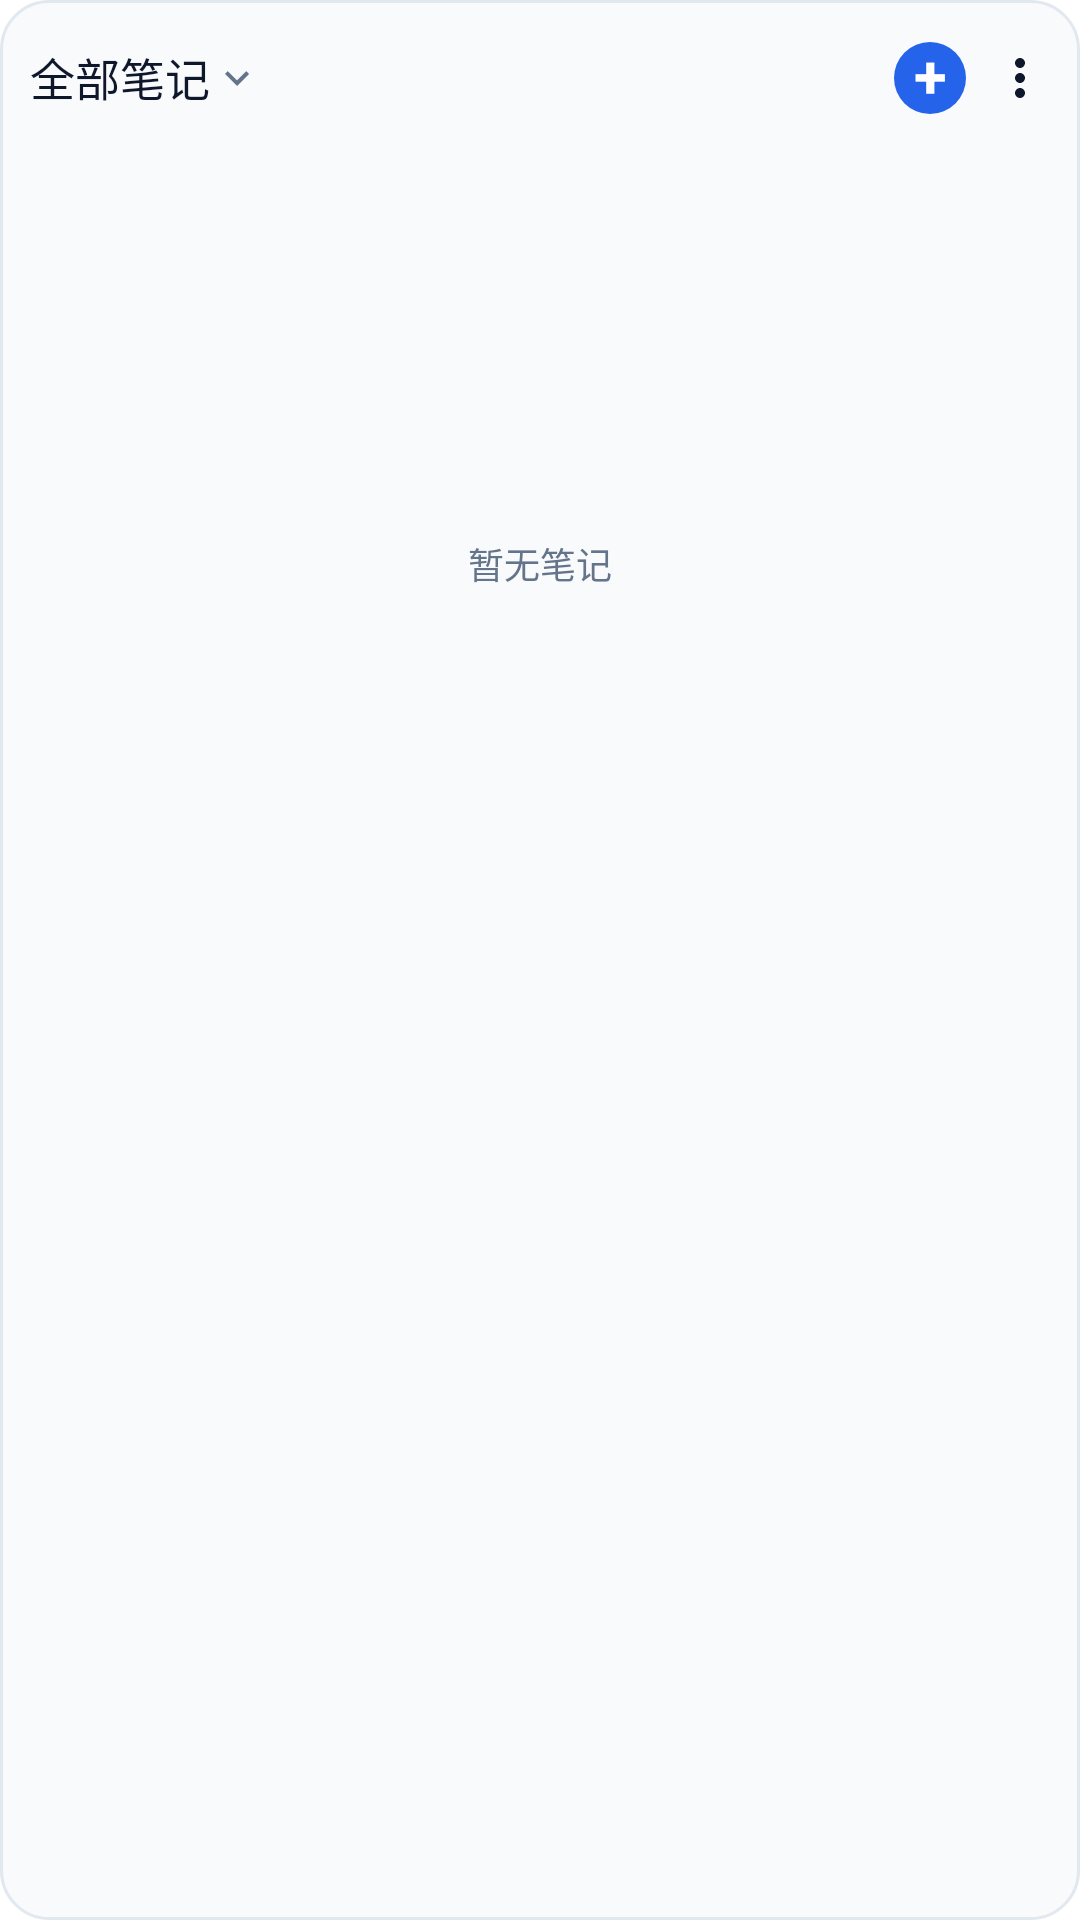

Named icons in this screenshot (1080 × 1920) and their centers, (x,y):
widget keyboard arrow down: (237,78)
widget more vert: (1020,78)
